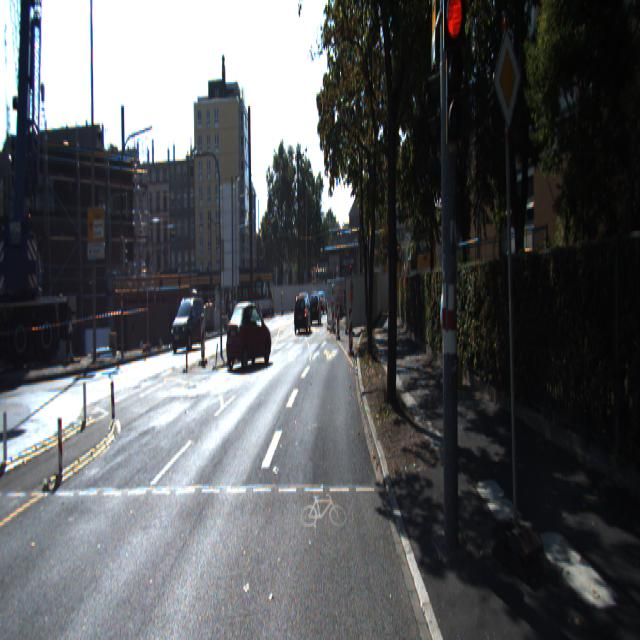Car: (225, 298, 273, 368), (170, 290, 205, 348), (293, 293, 311, 332)
